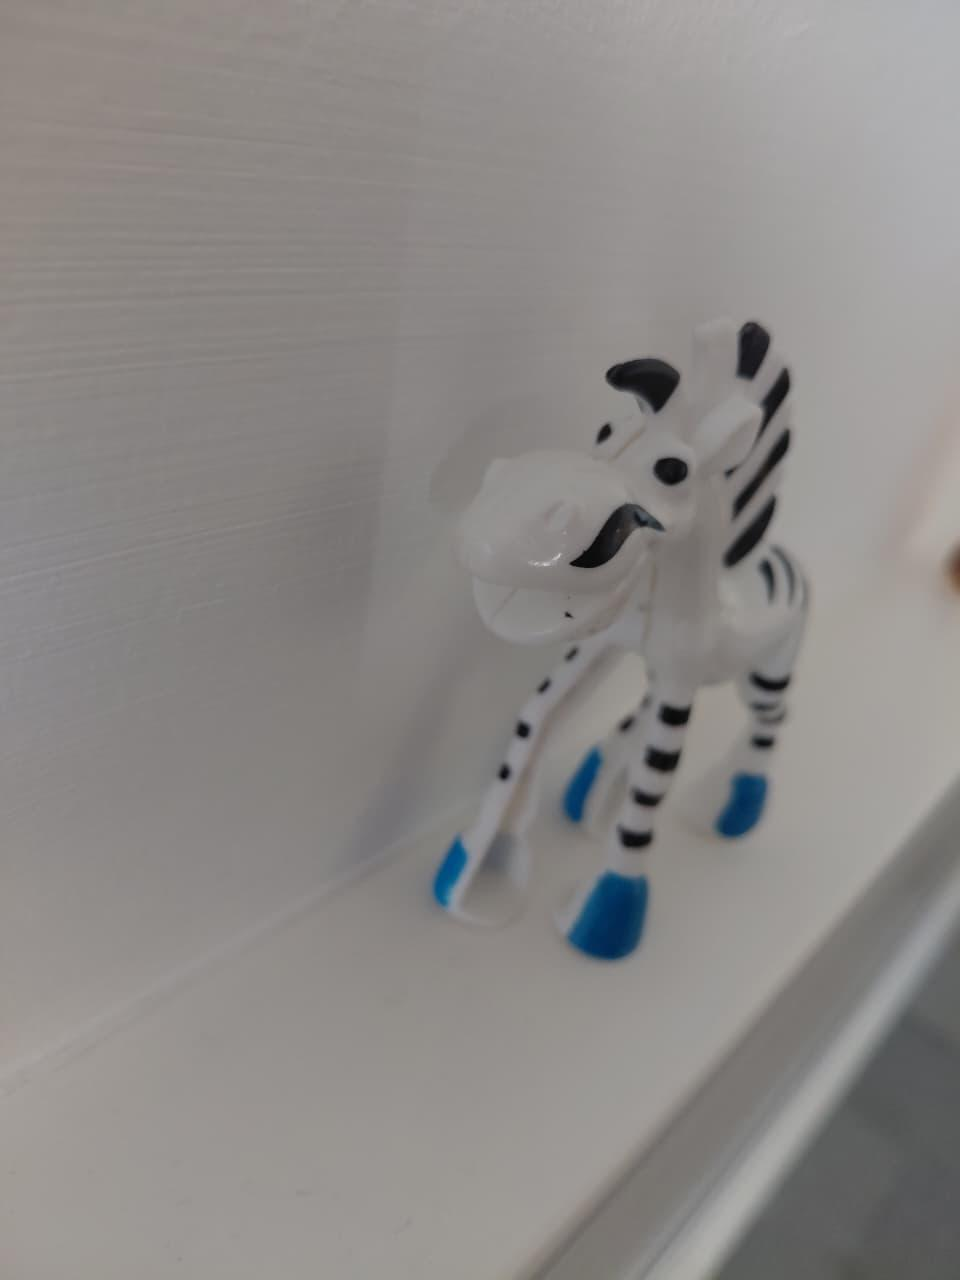zebra: (375, 256, 866, 1003)
